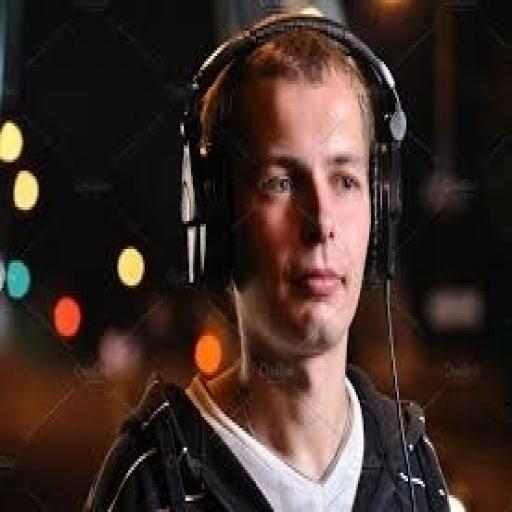listening_to_music: (80, 14, 464, 509)
